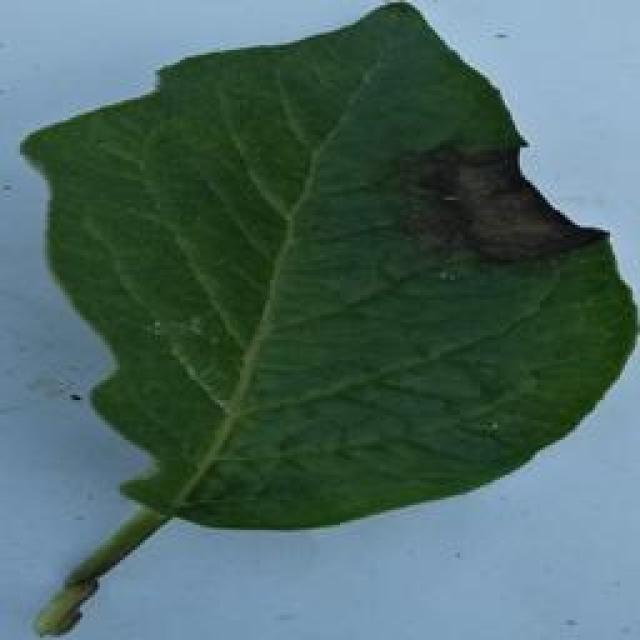Potato_Late_Blight: (17, 4, 627, 630)
